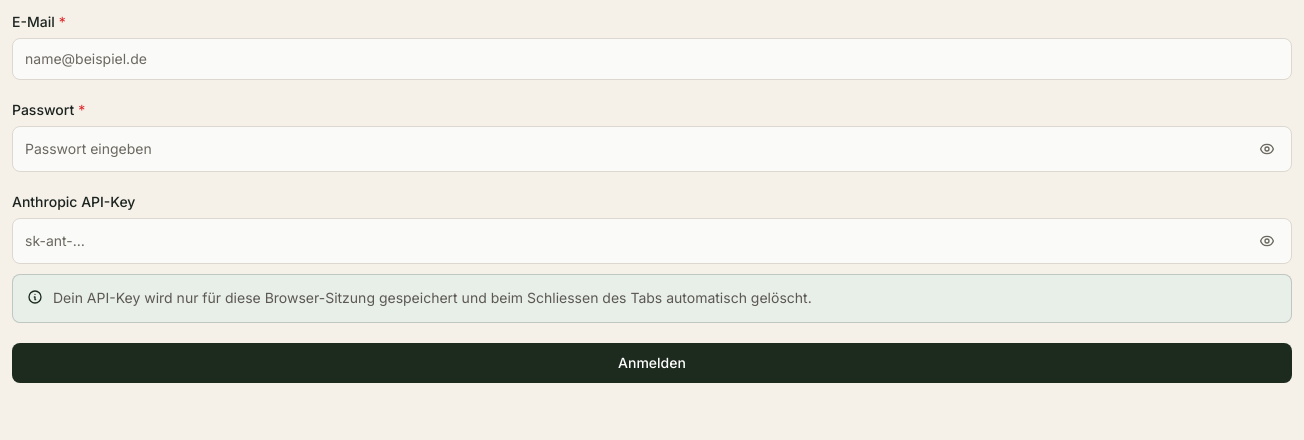
Test case: LoginForm — Fehlerbehandlung › zeigt Fehlermeldung bei Login-Fehler
Type "falsch@example.com" into the field labelled "E-Mail". click: (652, 59)
box: [12,38,1292,80]
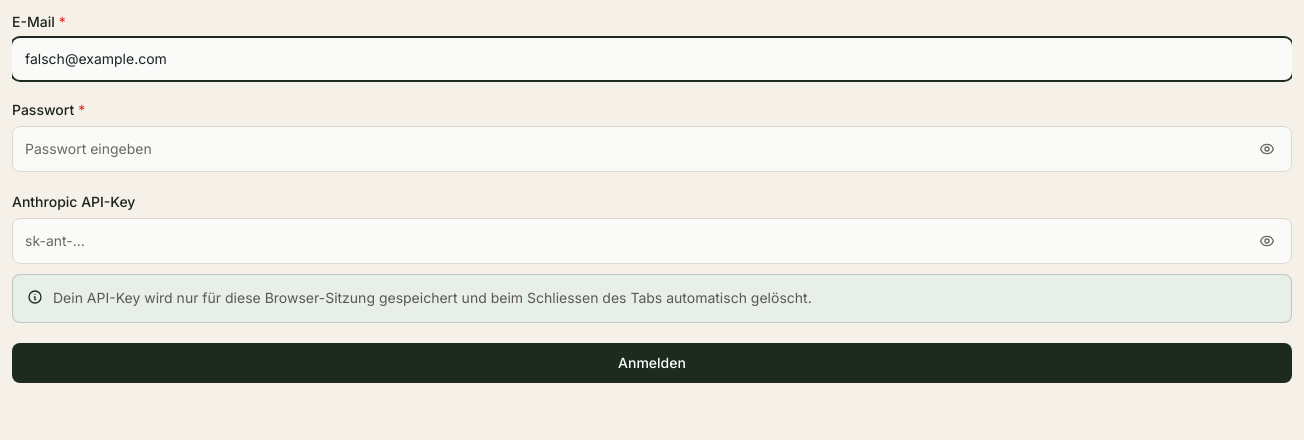
Type "falsch" into the password field labelled "Passwort". click: (630, 149)
box: [13,129,1247,169]
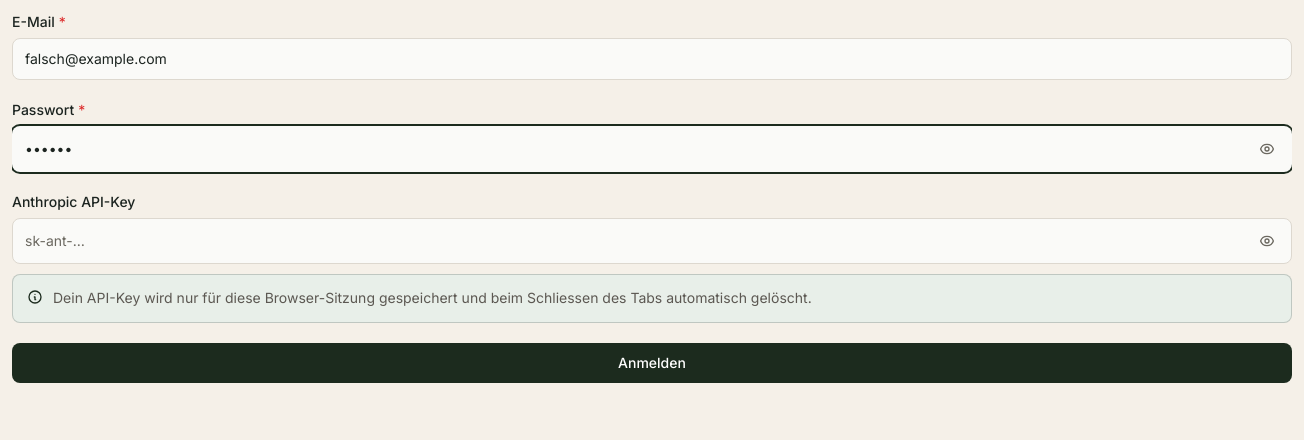
Click the button "Anmelden". click: (652, 363)
box: [12,343,1292,383]
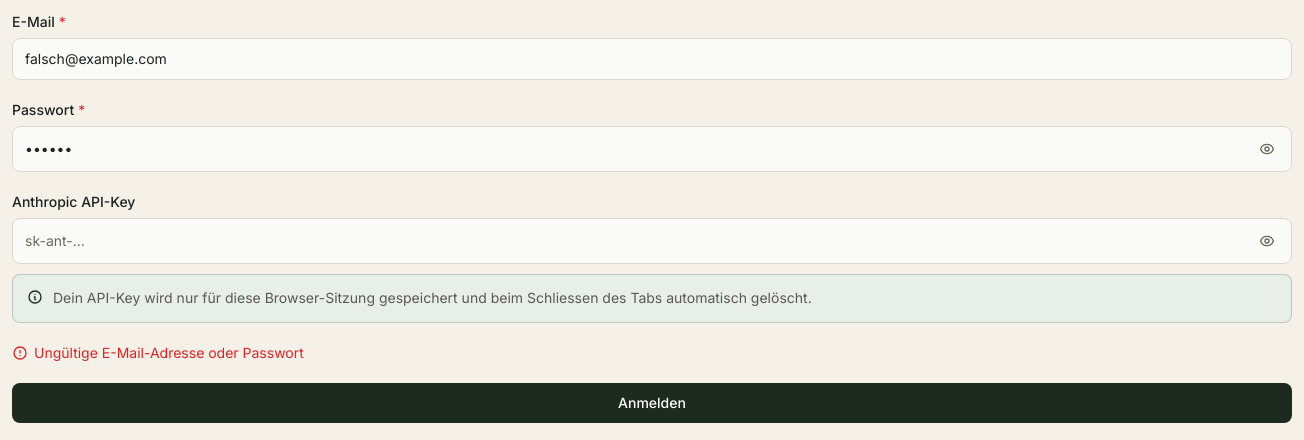
Expected: the message "Ungültige E-Mail-Adresse oder Passwort" is shown, [12,344,304,361]
